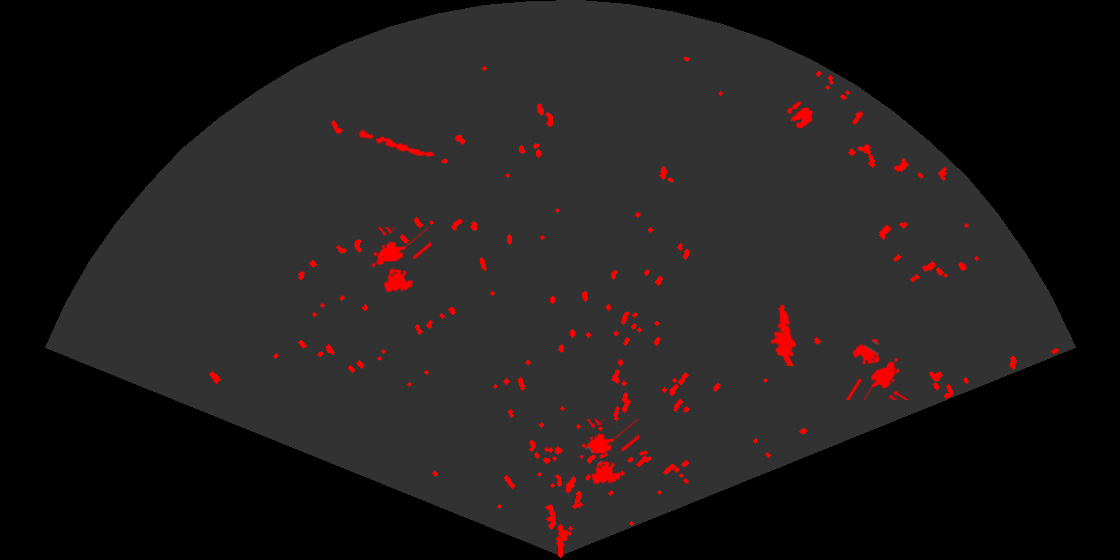ball: (785, 100, 815, 130)
cage: (844, 337, 910, 400), (578, 419, 639, 486), (370, 227, 431, 294)
chain: (352, 128, 436, 158)
frogman: (769, 303, 798, 366)
